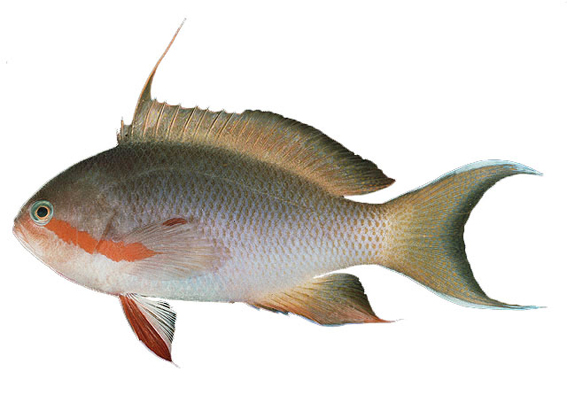fish: (12, 19, 549, 369)
